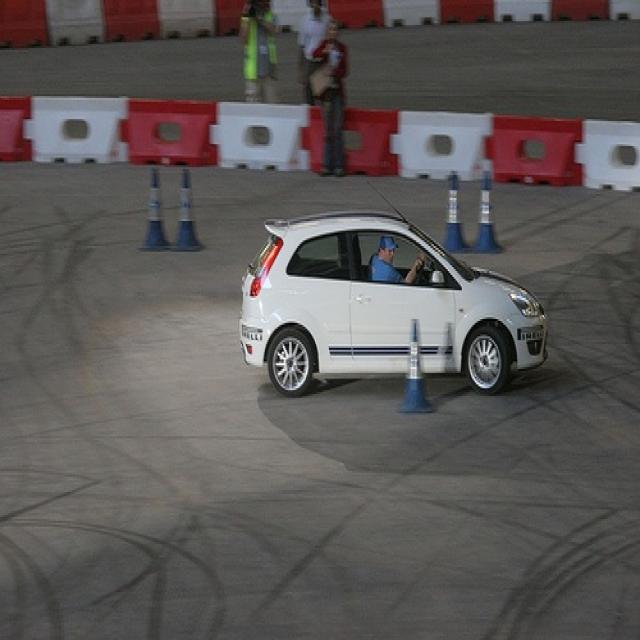light_vehicle: (239, 205, 553, 408)
